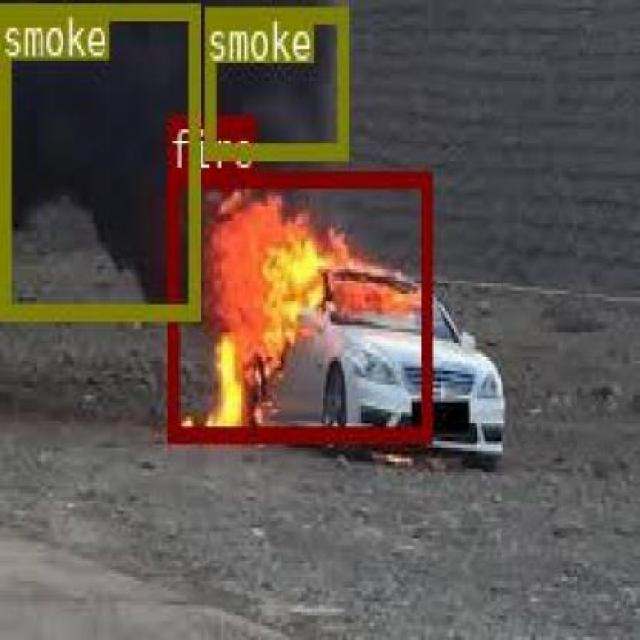CIV_Plane: (166, 168, 428, 440)
Fire: (166, 168, 428, 440)
Smoke: (0, 0, 194, 252), (230, 33, 306, 117)
